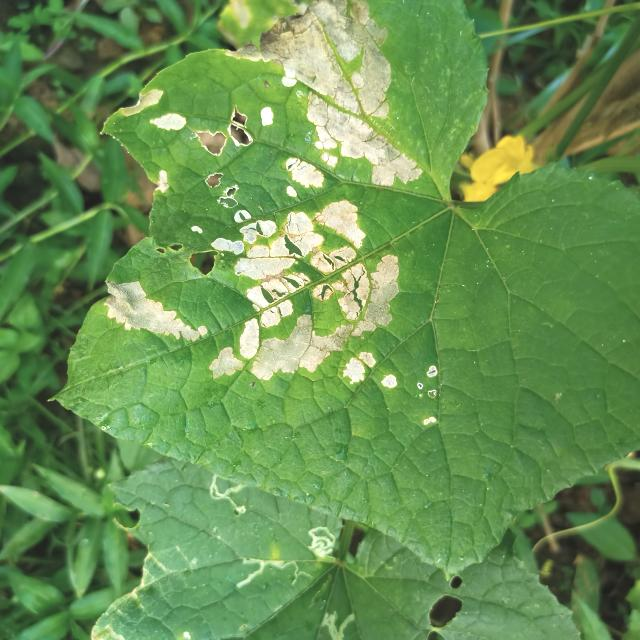disease_cucumber: (112, 0, 426, 197), (104, 196, 402, 394), (411, 356, 448, 429)
